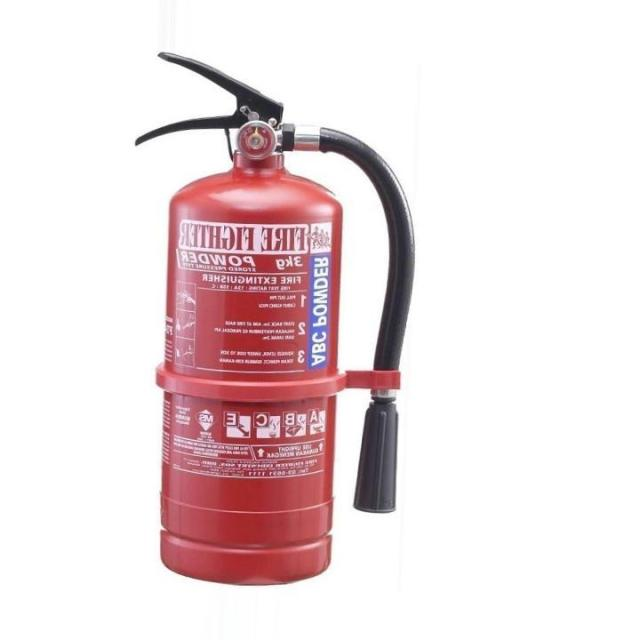fire_extinguisher: (122, 46, 424, 590)
